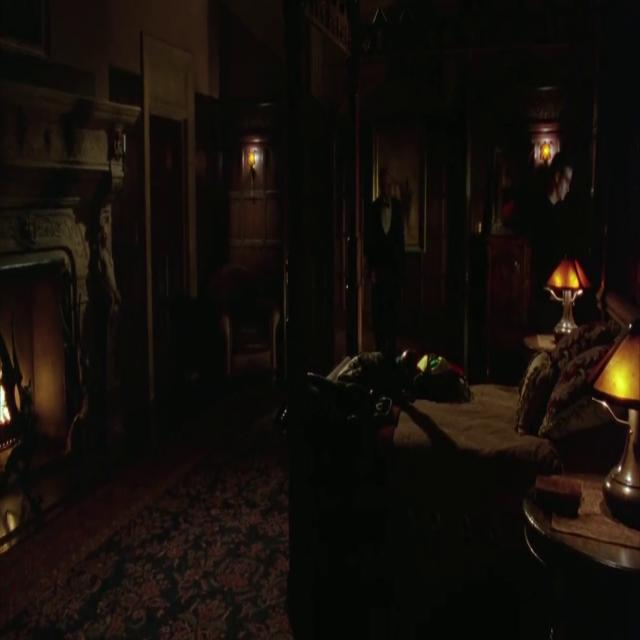People: (369, 158, 410, 380), (542, 141, 598, 285)
Table: (528, 427, 640, 640)
chair: (221, 235, 295, 472)
